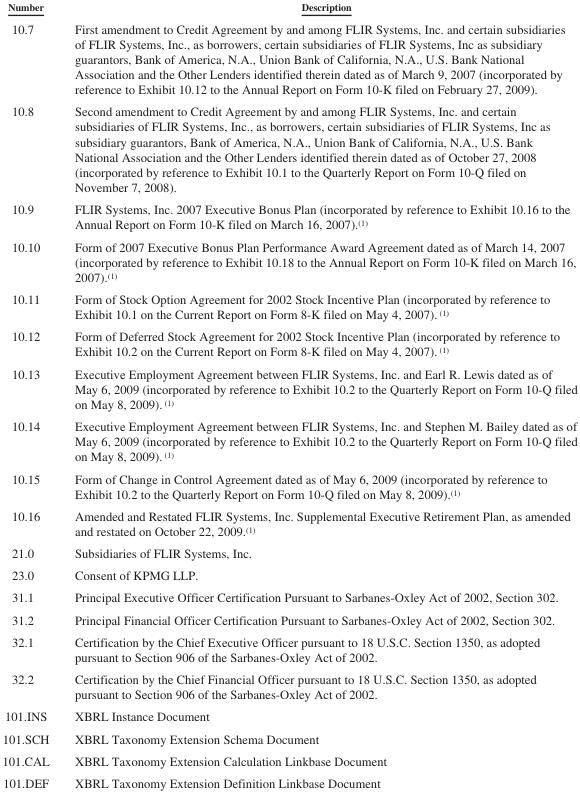table: (1, 0, 576, 789)
table column: (61, 0, 576, 789), (1, 0, 61, 789)
table column header: (1, 0, 576, 16)
table row: (1, 99, 576, 197), (1, 16, 576, 99), (1, 414, 576, 467), (1, 235, 576, 287), (1, 362, 576, 414), (1, 197, 576, 235), (1, 324, 576, 362), (1, 667, 576, 705), (1, 287, 576, 324), (1, 467, 576, 504), (1, 504, 576, 541), (1, 630, 576, 667), (1, 563, 576, 586), (1, 541, 576, 563), (1, 586, 576, 608), (1, 608, 576, 630), (1, 705, 576, 727), (1, 727, 576, 749), (1, 749, 576, 771), (1, 771, 576, 789), (1, 0, 576, 16)
